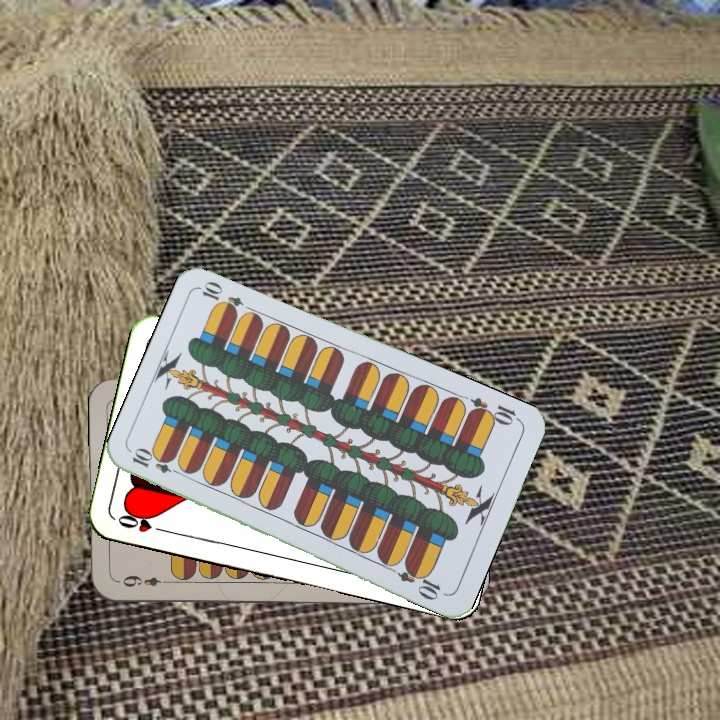E10: (465, 393, 523, 429), (128, 446, 186, 478)
E9: (119, 572, 173, 590)
HO: (113, 506, 171, 536)
